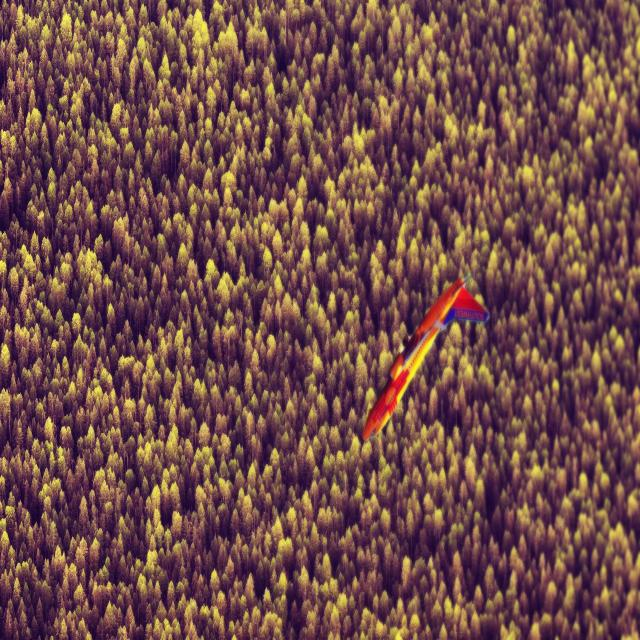airplane: (361, 273, 490, 442)
